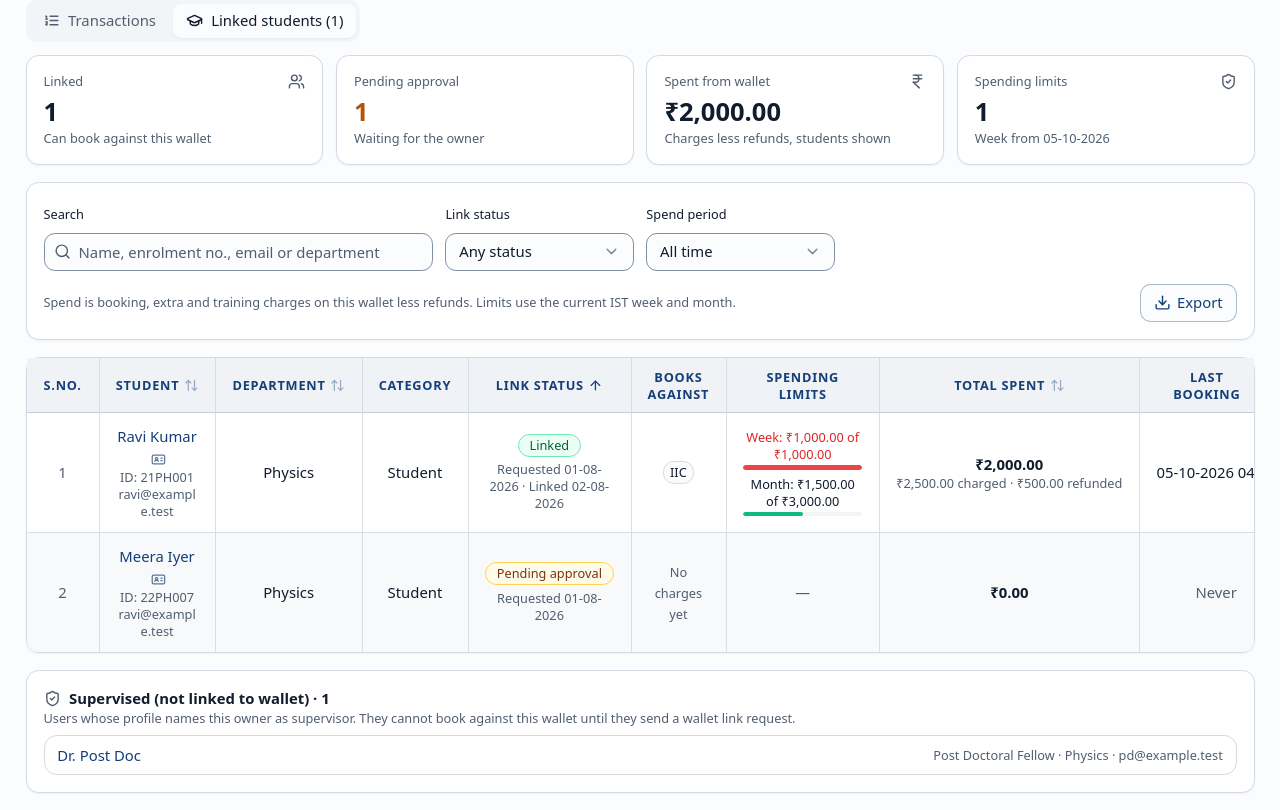
Scenario: Owner page: Linked students tab › clicking a student filters the Transactions tab to their bookings
(page scrolled)
Click the button "Ravi Kumar" at (157, 437), box [117,426,197,447]
(page scrolled)
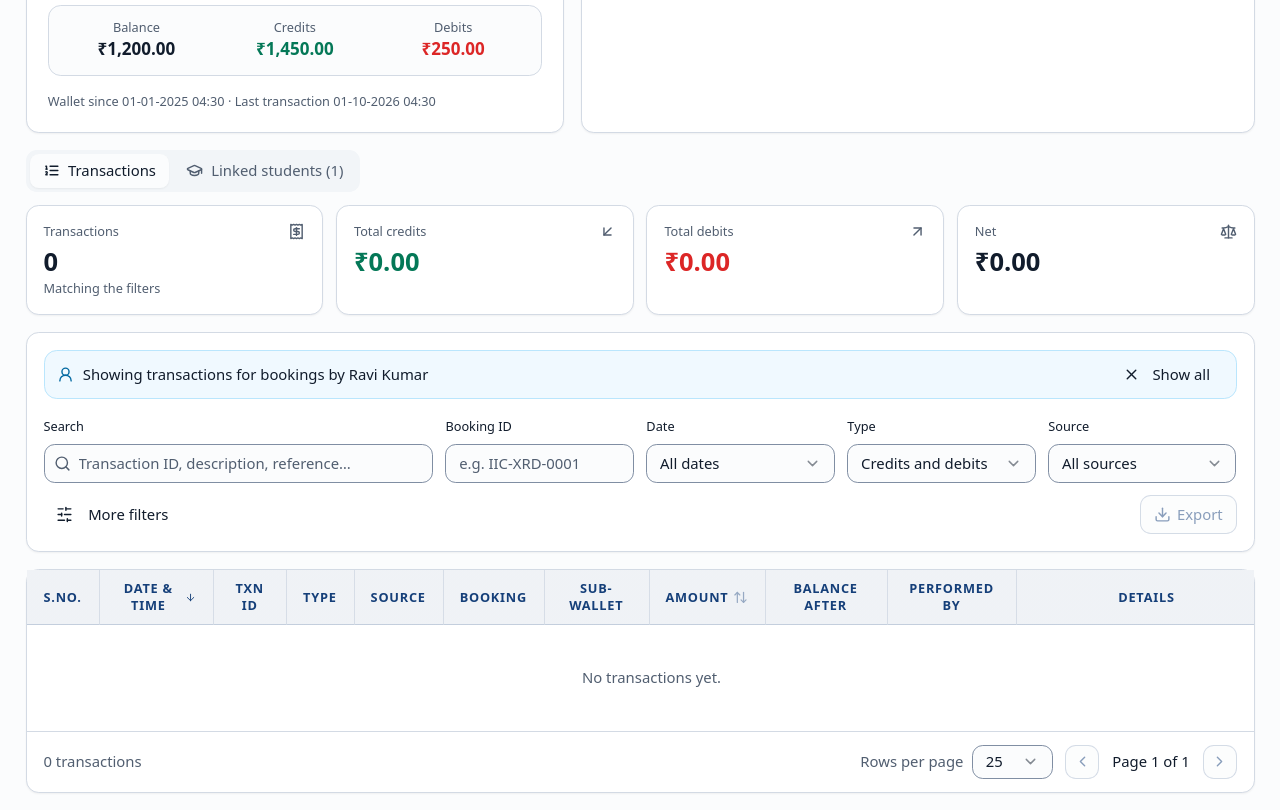
expect the text "Showing transactions for bookings by Ravi Kumar" is shown: met, box [83,364,428,385]
Click the button "Show all" at (1166, 374), box [1110,360,1223,389]
(page scrolled)
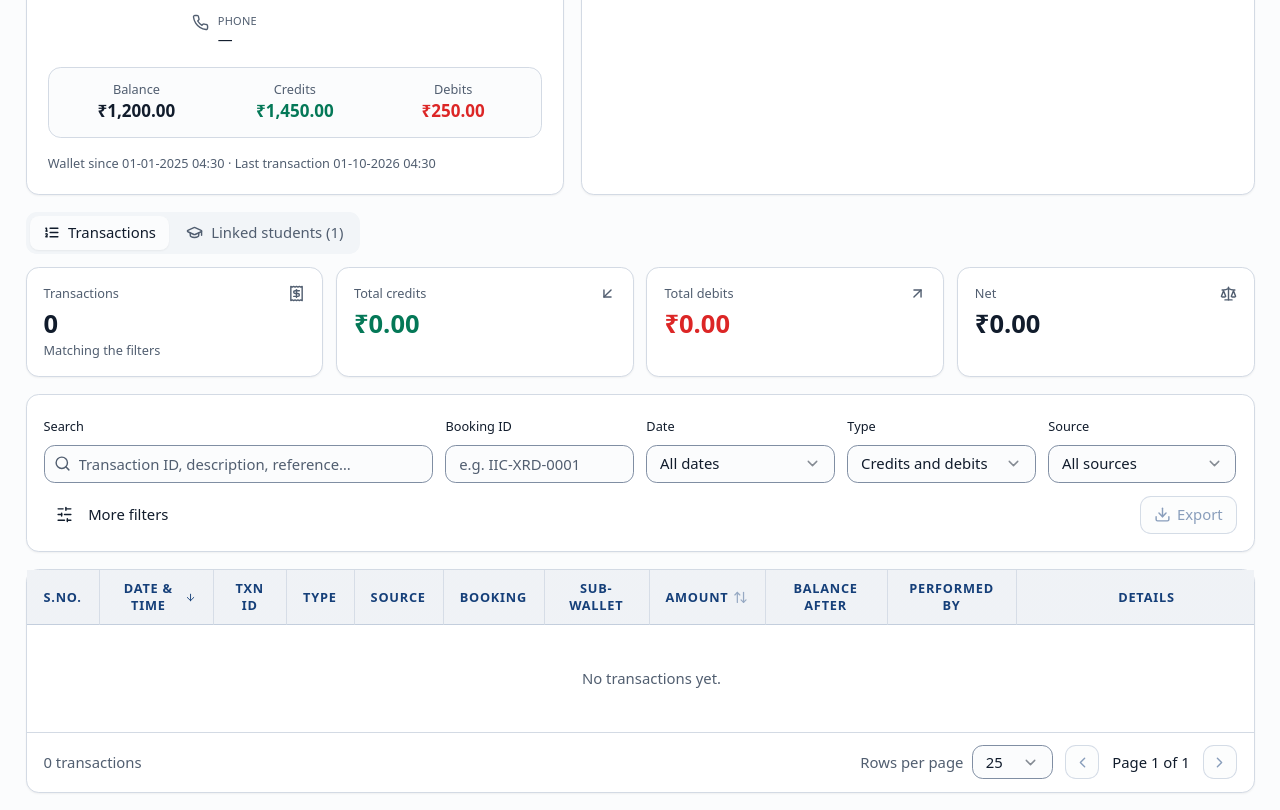
expect the text "Showing transactions for bookings by" is gone: met
